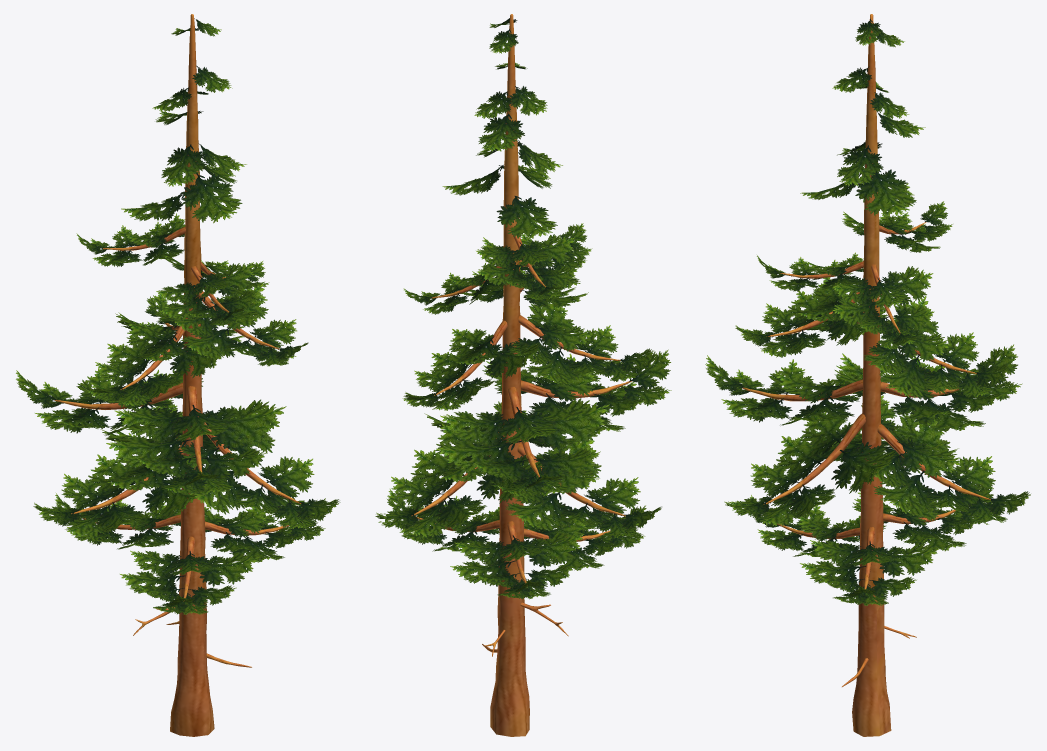
File: Pine model  A (3).glb
3 views of the same model, side by side, from view 1: azimuth 30°, elevation 25°; view 2: azimuth 150°, elevation 25°; view 3: azimuth 270°, elevation 25° (orthographic).
Parts seen in each view (by area): view 1: stylized_pine_var1_m_leaves_0, stylized_pine_var1_m_trunk_0; view 2: stylized_pine_var1_m_leaves_0, stylized_pine_var1_m_trunk_0; view 3: stylized_pine_var1_m_leaves_0, stylized_pine_var1_m_trunk_0.
Boxes of the visible parts, x1=… form: stylized_pine_var1_m_leaves_0: x1=16, y1=18, x2=340, y2=614; stylized_pine_var1_m_trunk_0: x1=54, y1=14, x2=301, y2=736; stylized_pine_var1_m_leaves_0: x1=375, y1=18, x2=671, y2=599; stylized_pine_var1_m_trunk_0: x1=411, y1=14, x2=631, y2=736; stylized_pine_var1_m_leaves_0: x1=705, y1=19, x2=1030, y2=605; stylized_pine_var1_m_trunk_0: x1=742, y1=14, x2=990, y2=736.
Size of the model in its own units: 594 by 1433 by 600.
Materials: 2 (2 with a texture image).
